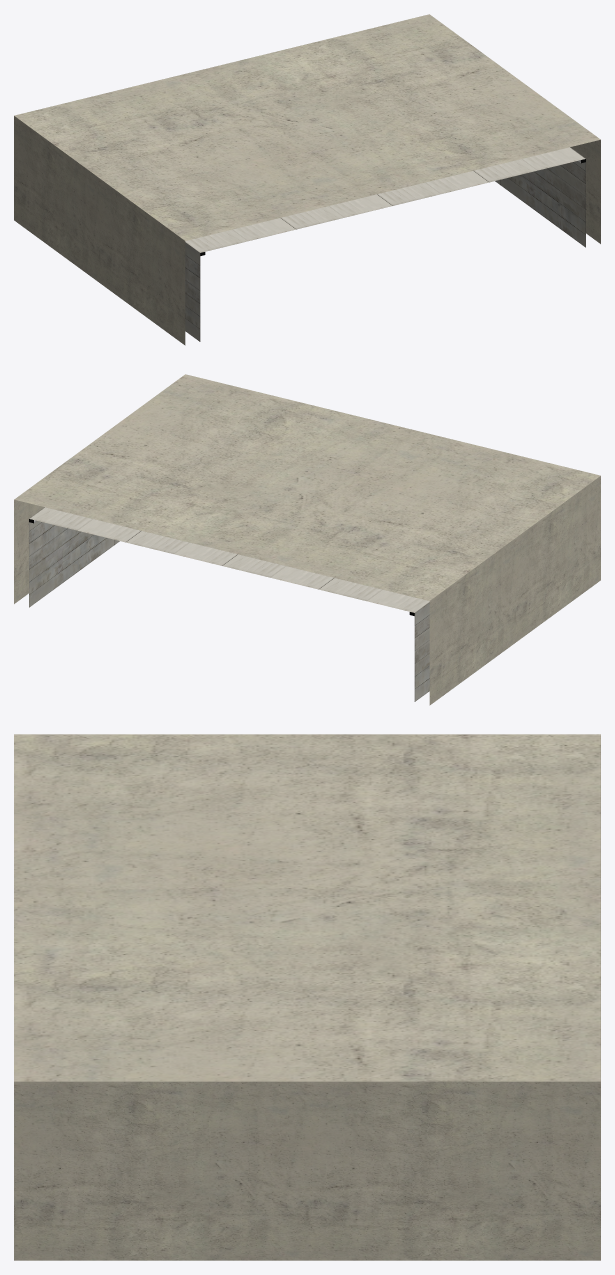
Rendered from GSDTunnel-4L.FBX.
3 views of the same model, one above another, from view 1: azimuth 30°, elevation 25°; view 2: azimuth 150°, elevation 25°; view 3: azimuth 270°, elevation 25° (orthographic). The views are drawn at different scales.
Parts seen in each view (by area): view 1: GSDTunnel-4L; view 2: GSDTunnel-4L; view 3: GSDTunnel-4L.
Part boxes in pixels (left/top/right/bottom): GSDTunnel-4L: left=14, top=14, right=600, bottom=345; GSDTunnel-4L: left=14, top=374, right=600, bottom=705; GSDTunnel-4L: left=14, top=734, right=600, bottom=1260.
Size of the model in its own units: 28 by 6.74 by 20.
